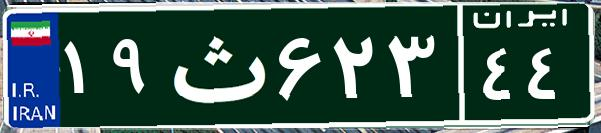1: (57, 26, 110, 107)
2: (330, 28, 385, 110)
3: (385, 28, 445, 110)
4: (475, 38, 525, 113), (525, 38, 570, 115)
6: (273, 28, 330, 110)
9: (110, 28, 158, 105)
ث: (158, 15, 273, 115)
